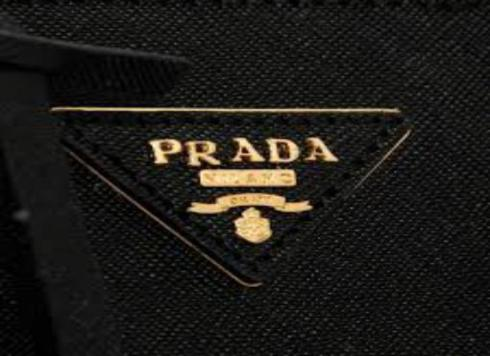PRADA: (145, 134, 343, 166)
